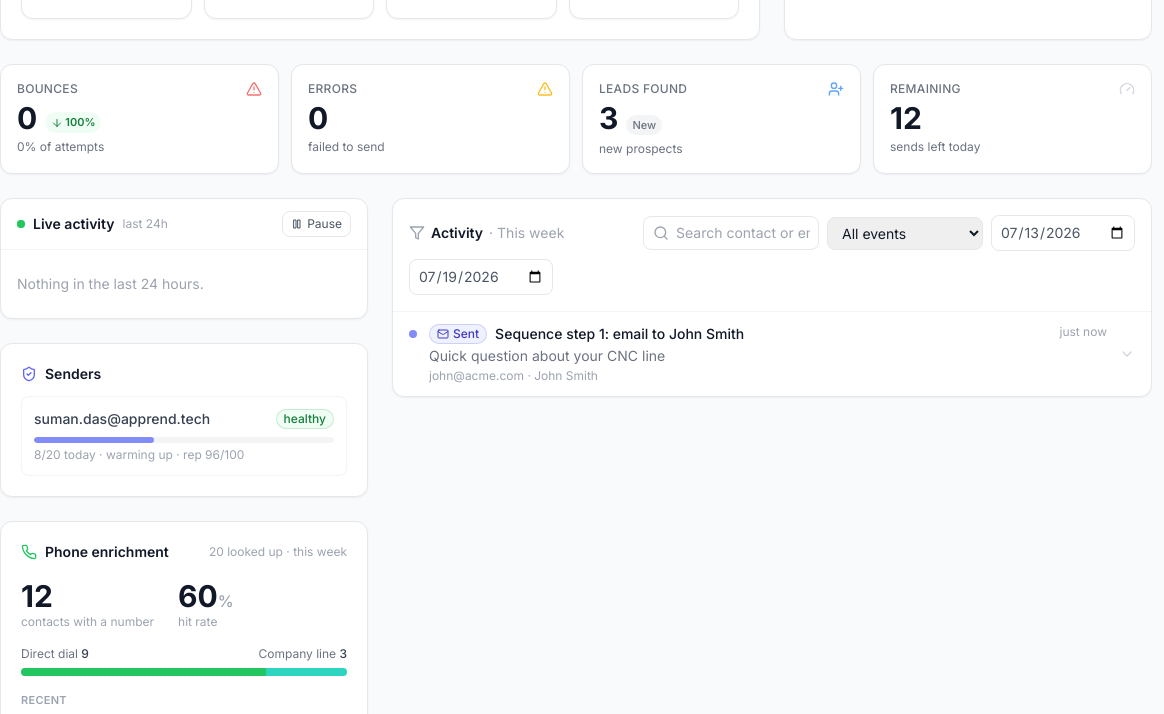
Test case: DialtoneConsole page › expands a send that carries its copy, and shows the subject + body
(page scrolled)
Expected: the text "saw you run 5-axis machining" is not shown
Step 1. Click the button with aria-label "read email" → (458, 334), box [393, 312, 1151, 396]
(page scrolled)
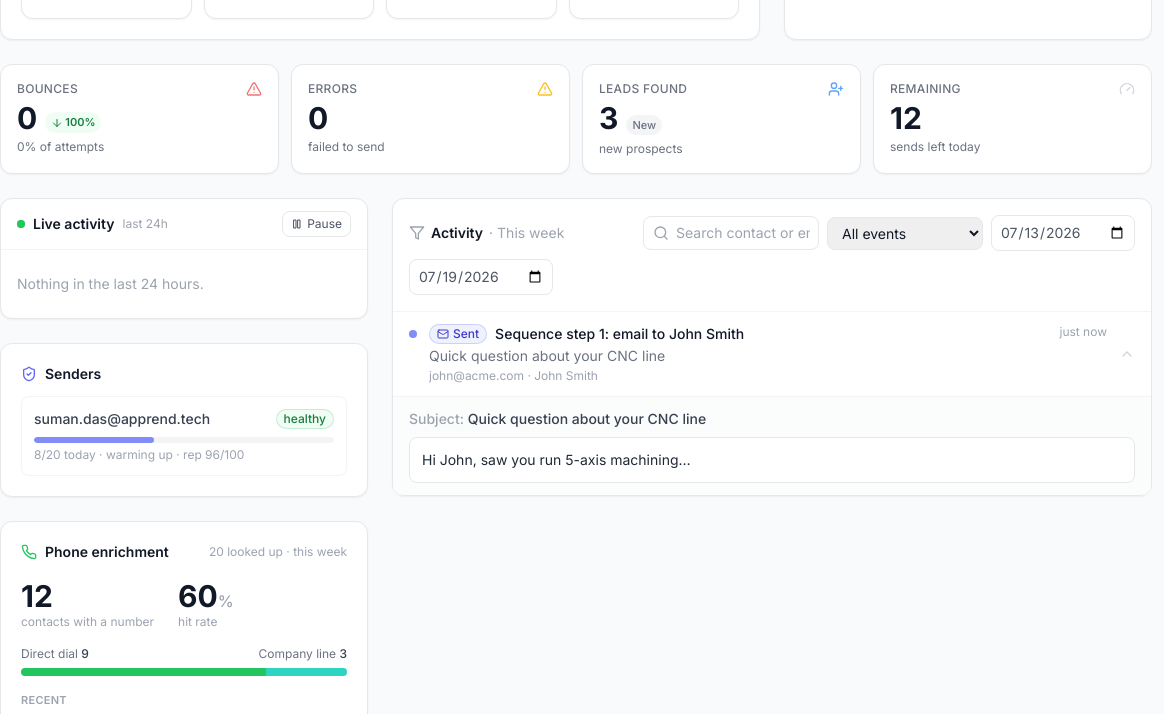
Expected: the text "Hi John, saw you run 5-axis machining…" is shown, [422, 451, 691, 468]
Expected: the text "Subject:" is shown, [409, 410, 468, 427]
